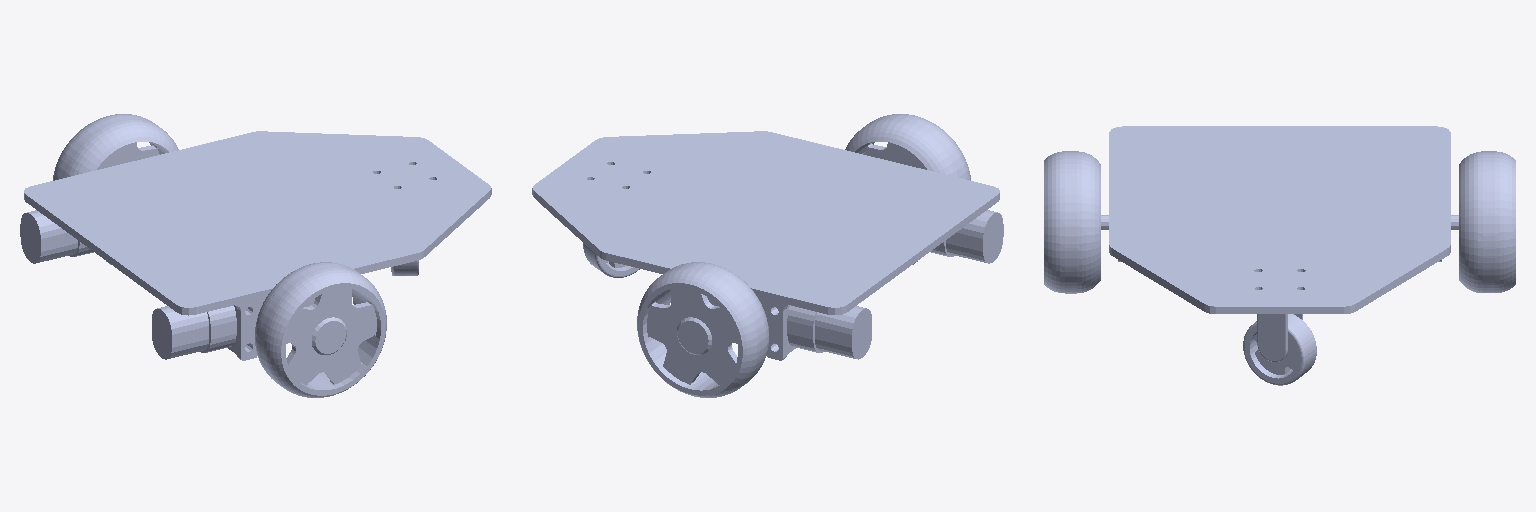
URDF robot description (my_team_robot):
<?xml version="1.0"?>
<!-- This URDF was automatically created by SolidWorks to URDF Exporter! Originally created by [author] ([email redacted]) 
     Commit Version: 1.6.0-4-g7f85cfe  Build Version: 1.6.7995.38578
     For more information, please see http://wiki.ros.org/sw_urdf_exporter -->
<robot
  name="my_team_robot">
  <link
    name="base_link">
    <inertial>
      <origin
        xyz="-0.016824 7.1346E-09 -0.0076023"
        rpy="0 0 0" />
      <mass
        value="0.095337" />
      <inertia
        ixx="5.9484E-05"
        ixy="1.9529E-11"
        ixz="-8.9959E-07"
        iyy="9.8649E-05"
        iyz="-1.6019E-12"
        izz="0.00015418" />
    </inertial>
    <visual>
      <origin
        xyz="0 0 0"
        rpy="0 0 0" />
      <geometry>
        <mesh
          filename="package://my_team_robot/meshes/base_link.STL" />
      </geometry>
      <material
        name="">
        <color
          rgba="0.79216 0.81961 0.93333 1" />
      </material>
    </visual>
    <collision>
      <origin
        xyz="0 0 0"
        rpy="0 0 0" />
      <geometry>
        <mesh
          filename="package://my_team_robot/meshes/base_link.STL" />
      </geometry>
    </collision>
  </link>
  <link
    name="leftwheel">
    <inertial>
      <origin
        xyz="2.3592E-16 2.7756E-17 0.0064675"
        rpy="0 0 0" />
      <mass
        value="0.014896" />
      <inertia
        ixx="3.4328E-06"
        ixy="-1.4494E-21"
        ixz="2.6442E-21"
        iyy="3.4328E-06"
        iyz="2.7406E-22"
        izz="6.1544E-06" />
    </inertial>
    <visual>
      <origin
        xyz="0 0 0"
        rpy="0 0 0" />
      <geometry>
        <mesh
          filename="package://my_team_robot/meshes/leftwheel.STL" />
      </geometry>
      <material
        name="">
        <color
          rgba="0.79216 0.81961 0.93333 1" />
      </material>
    </visual>
    <collision>
      <origin
        xyz="0 0 0"
        rpy="0 0 0" />
      <geometry>
        <mesh
          filename="package://my_team_robot/meshes/leftwheel.STL" />
      </geometry>
    </collision>
  </link>
  <joint
    name="left_wheel"
    type="continuous">
    <origin
      xyz="-0.018999 0.0808 -0.0141"
      rpy="1.5708 0 0" />
    <parent
      link="base_link" />
    <child
      link="leftwheel" />
    <axis
      xyz="0 0 -1" />
    <limit
      effort="10"
      velocity="10" />
    <dynamics
      damping="0.1"
      friction="0.1" />
  </joint>
  <link
    name="rightwheel">
    <inertial>
      <origin
        xyz="-2.3592E-16 -3.1919E-16 -0.0064675"
        rpy="0 0 0" />
      <mass
        value="0.014896" />
      <inertia
        ixx="3.4328E-06"
        ixy="-4.0996E-23"
        ixz="-1.0497E-21"
        iyy="3.4328E-06"
        iyz="-2.8625E-21"
        izz="6.1544E-06" />
    </inertial>
    <visual>
      <origin
        xyz="0 0 0"
        rpy="0 0 0" />
      <geometry>
        <mesh
          filename="package://my_team_robot/meshes/rightwheel.STL" />
      </geometry>
      <material
        name="">
        <color
          rgba="0.79216 0.81961 0.93333 1" />
      </material>
    </visual>
    <collision>
      <origin
        xyz="0 0 0"
        rpy="0 0 0" />
      <geometry>
        <mesh
          filename="package://my_team_robot/meshes/rightwheel.STL" />
      </geometry>
    </collision>
  </link>
  <joint
    name="right_wheel"
    type="continuous">
    <origin
      xyz="-0.018999 -0.0808 -0.0141"
      rpy="1.5708 0 0" />
    <parent
      link="base_link" />
    <child
      link="rightwheel" />
    <axis
      xyz="0 0 1" />
    <limit
      effort="10"
      velocity="10" />
    <dynamics
      damping="0.1"
      friction="0.1" />
  </joint>
  <link
    name="conquay">
    <inertial>
      <origin
        xyz="0 0 -0.012786"
        rpy="0 0 0" />
      <mass
        value="0.00075181" />
      <inertia
        ixx="5.6519E-08"
        ixy="4.3148E-09"
        ixz="-2.7696E-24"
        iyy="6.1864E-08"
        iyz="-5.7454E-24"
        izz="2.4909E-08" />
    </inertial>
    <visual>
      <origin
        xyz="0 0 0"
        rpy="0 0 0" />
      <geometry>
        <mesh
          filename="package://my_team_robot/meshes/conquay.STL" />
      </geometry>
      <material
        name="">
        <color
          rgba="0.79216 0.81961 0.93333 1" />
      </material>
    </visual>
    <collision>
      <origin
        xyz="0 0 0"
        rpy="0 0 0" />
      <geometry>
        <mesh
          filename="package://my_team_robot/meshes/conquay.STL" />
      </geometry>
    </collision>
  </link>
  <joint
    name="con_quay"
    type="continuous">
    <origin
      xyz="0.058851 0 -0.003"
      rpy="0 0 0" />
    <parent
      link="base_link" />
    <child
      link="conquay" />
    <axis
      xyz="0 0 1" />
    <limit
      effort="10"
      velocity="10" />
    <dynamics
      damping="0.1"
      friction="0.1" />
  </joint>
  <link
    name="wheelmini">
    <inertial>
      <origin
        xyz="-0.0017473 4.1633E-17 -0.0009731"
        rpy="0 0 0" />
      <mass
        value="0.0031218" />
      <inertia
        ixx="2.6447E-07"
        ixy="-3.0475E-22"
        ixz="5.467E-08"
        iyy="1.663E-07"
        iyz="2.8714E-22"
        izz="1.9675E-07" />
    </inertial>
    <visual>
      <origin
        xyz="0 0 0"
        rpy="0 0 0" />
      <geometry>
        <mesh
          filename="package://my_team_robot/meshes/wheelmini.STL" />
      </geometry>
      <material
        name="">
        <color
          rgba="0.79216 0.81961 0.93333 1" />
      </material>
    </visual>
    <collision>
      <origin
        xyz="0 0 0"
        rpy="0 0 0" />
      <geometry>
        <mesh
          filename="package://my_team_robot/meshes/wheelmini.STL" />
      </geometry>
    </collision>
  </link>
  <joint
    name="wheel_mini"
    type="continuous">
    <origin
      xyz="0.0017473 -0.0009731 -0.0236"
      rpy="1.5708 0 0" />
    <parent
      link="conquay" />
    <child
      link="wheelmini" />
    <axis
      xyz="0.87365 0 0.48655" />
    <limit
      effort="10"
      velocity="10" />
    <dynamics
      damping="0.1"
      friction="0.1" />
  </joint>

  <!-- Adjusted friction and gravity settings in Gazebo -->
  <gazebo reference="base_link">
    <mu1>1000</mu1>
    <mu2>1000</mu2>
    <gravity>1</gravity>
    <material>Gazebo/Green</material>
  </gazebo>

  <!-- Adjusted dynamics and friction for wheels -->
  <gazebo reference="leftwheel">
    <mu1>1000</mu1>
    <mu2>1000</mu2>
    <material>Gazebo/Grey</material>
  </gazebo>

  <gazebo reference="right_wheel">
    <mu1>1000</mu1>
    <mu2>1000</mu2>
    <material>Gazebo/Grey</material>
  </gazebo>

  <gazebo reference="con_quay">
    <mu1>1000</mu1>
    <mu2>1000</mu2>
    <material>Gazebo/Grey</material>
  </gazebo>

  <gazebo reference="wheel_mini">
    <mu1>1000</mu1>
    <mu2>1000</mu2>
    <material>Gazebo/Grey</material>
  </gazebo>

  <gazebo>
    <plugin name="four_wheeled_robot_diff_drive" filename="libgazebo_ros_diff_drive.so">
 
      <update_rate>100</update_rate>
      <num_wheel_pairs>1</num_wheel_pairs>
      <!-- wheels -->
      <left_joint>left_wheel</left_joint>
      <right_joint>right_wheel</right_joint>

      <!-- kinematics -->
      <wheel_separation>0.135</wheel_separation> <!-- Khoảng cách giữa các bánh trước và sau -->
      <wheel_diameter>0.073</wheel_diameter> <!-- Đường kính bánh xe -->
 
      <!-- limits -->
      <max_wheel_torque>30</max_wheel_torque>
      <max_wheel_acceleration>30.0</max_wheel_acceleration>
 
      <!-- Receive velocity commands on this ROS topic -->
      <command_topic>cmd_vel</command_topic>
 
      <!-- output -->
      <!-- When false, publish no wheel odometry data to a ROS topic -->
      <publish_odom>true</publish_odom>
 
      <!-- When true, publish coordinate transform from odom to base_footprint -->
      <publish_odom_tf>true</publish_odom_tf>
     
      <!-- When true, publish coordinate transform from base_link to the wheels -->
      <publish_wheel_tf>true</publish_wheel_tf>
 
      <odometry_topic>odom</odometry_topic>
      <odometry_frame>odom_link</odometry_frame>
      <robot_base_frame>base_link</robot_base_frame>
 
      <odometry_source>1</odometry_source>
      <ros>
        <remapping>odom:=wheel/odometry</remapping>
      </ros>
    </plugin>
  </gazebo>

  <gazebo>
      <plugin name="gazebo_ros_joint_state_publisher"
          filename="libgazebo_ros_joint_state_publisher.so">
          <update_rate>100</update_rate>
          <joint_name>left_wheel</joint_name>
          <joint_name>right_wheel</joint_name>
      </plugin>
  </gazebo>
</robot>

--- Facts derived from the render (not from the file) ---
3 views of the same robot in one strip: view 1: azimuth 30°, elevation 25°; view 2: azimuth 150°, elevation 25°; view 3: azimuth 270°, elevation 25° (orthographic).
Model my_team_robot with 5 links and 4 joints (4 continuous), rooted at base_link, posed all joints at 0.
Visible links, largest first — view 1: base_link, rightwheel, leftwheel; view 2: base_link, leftwheel, rightwheel, wheelmini; view 3: base_link, rightwheel, leftwheel, wheelmini, conquay.
Boxes of the visible links, x1=… form: base_link: x1=20, y1=131, x2=491, y2=360; rightwheel: x1=255, y1=262, x2=386, y2=397; leftwheel: x1=53, y1=114, x2=178, y2=180; base_link: x1=532, y1=131, x2=1003, y2=360; leftwheel: x1=637, y1=262, x2=768, y2=397; rightwheel: x1=845, y1=114, x2=970, y2=180; wheelmini: x1=583, y1=243, x2=639, y2=277; base_link: x1=1101, y1=126, x2=1458, y2=313; rightwheel: x1=1044, y1=151, x2=1100, y2=293; leftwheel: x1=1459, y1=151, x2=1515, y2=292; wheelmini: x1=1243, y1=314, x2=1316, y2=385; conquay: x1=1257, y1=314, x2=1302, y2=361.
Size in the robot's own frame: 0.1521 by 0.1656 by 0.05 metres.
5 mesh visuals loaded from 5 distinct referenced files (5 binary STL).
